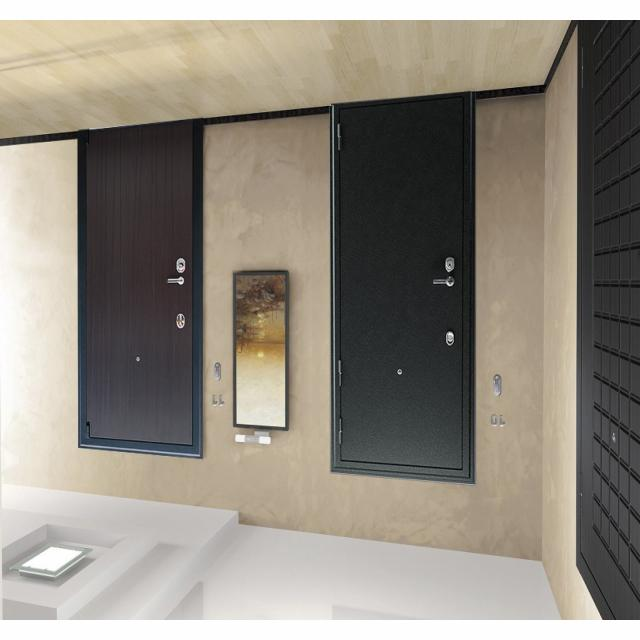close: (326, 93, 472, 478), (68, 123, 202, 462)
